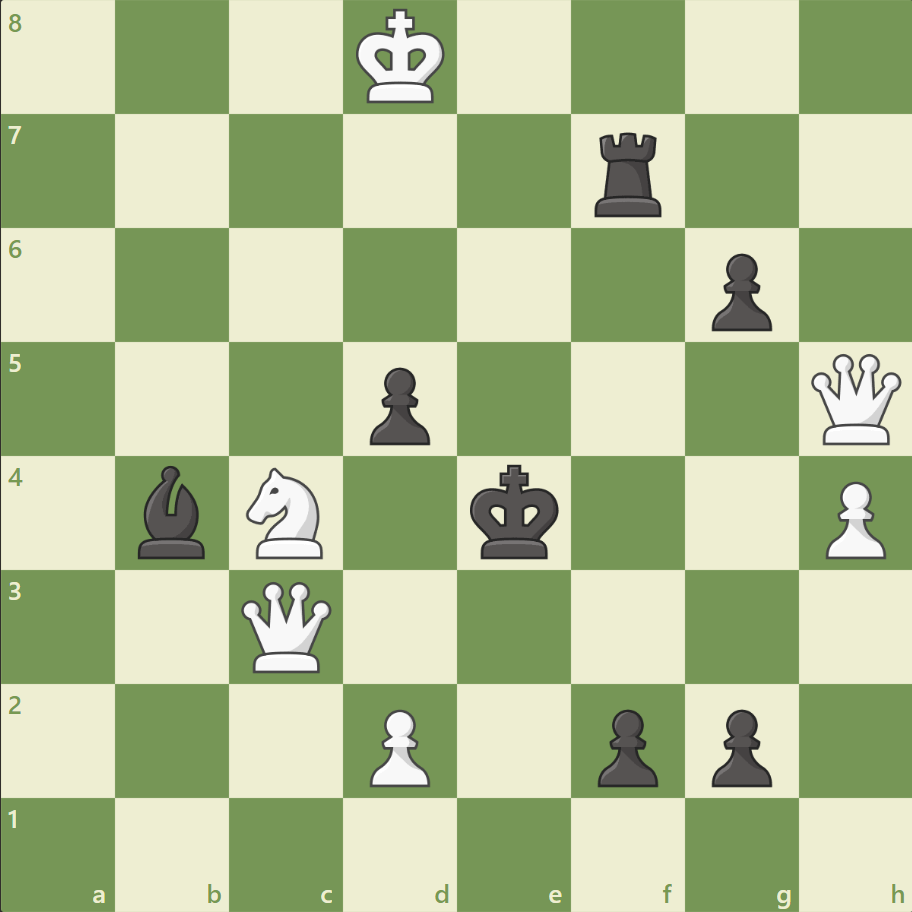K: (351, 4, 451, 112)
N: (238, 461, 335, 564)
P: (815, 473, 889, 564), (361, 700, 435, 791)
Q: (805, 349, 904, 449), (237, 576, 336, 676)
b: (131, 460, 215, 563)
k: (465, 458, 565, 566)
p: (701, 246, 776, 337), (701, 700, 776, 791), (361, 359, 435, 450), (588, 700, 662, 791)
r: (587, 125, 670, 222)
